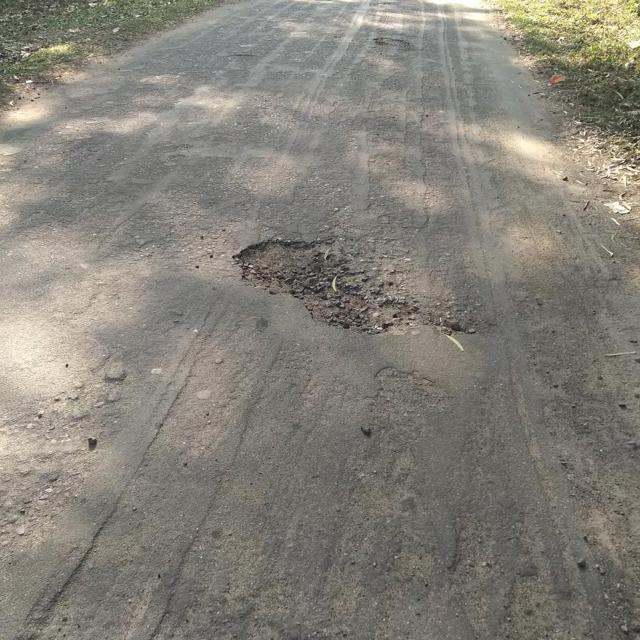lubang_kecil: (232, 226, 418, 343)
